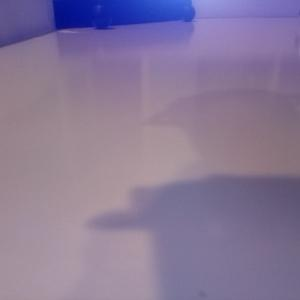dead_ball: (91, 4, 111, 29), (181, 4, 196, 22)
